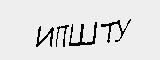Б: (97, 18, 113, 37)
З: (80, 18, 97, 36)
С: (45, 15, 66, 34)
Э: (113, 18, 131, 38)
Я: (64, 17, 82, 36)
Қ: (24, 15, 46, 37)
